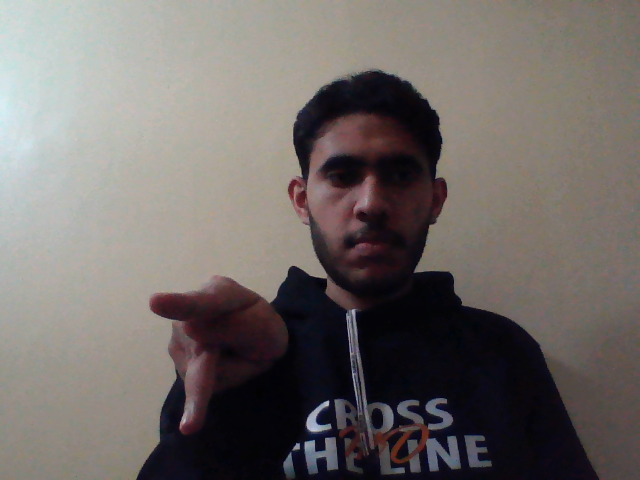P: (143, 267, 293, 437)
